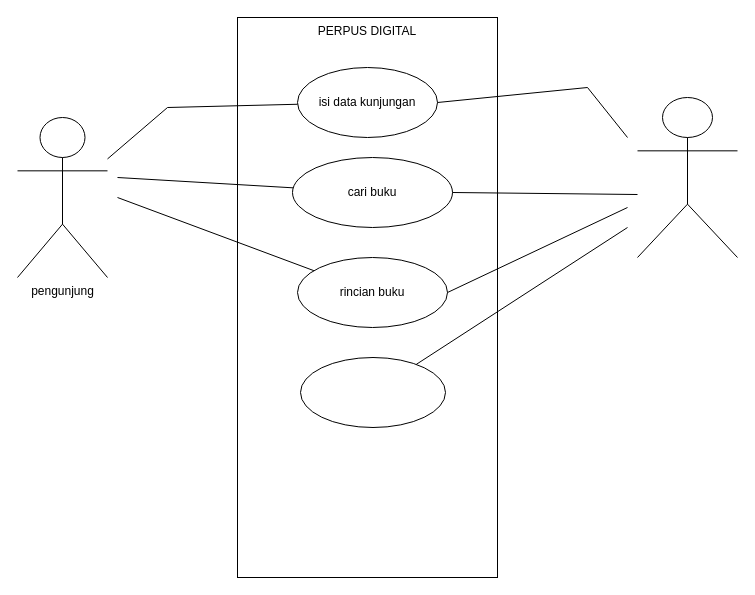
This 755x595 diagram has some shape labels left out. Here are the shapes that lost their labels. From the top down, the centre of each, then its label:
At [687,177]: "pustakawan".
At [373,392]: "riwayat kunjungan".
